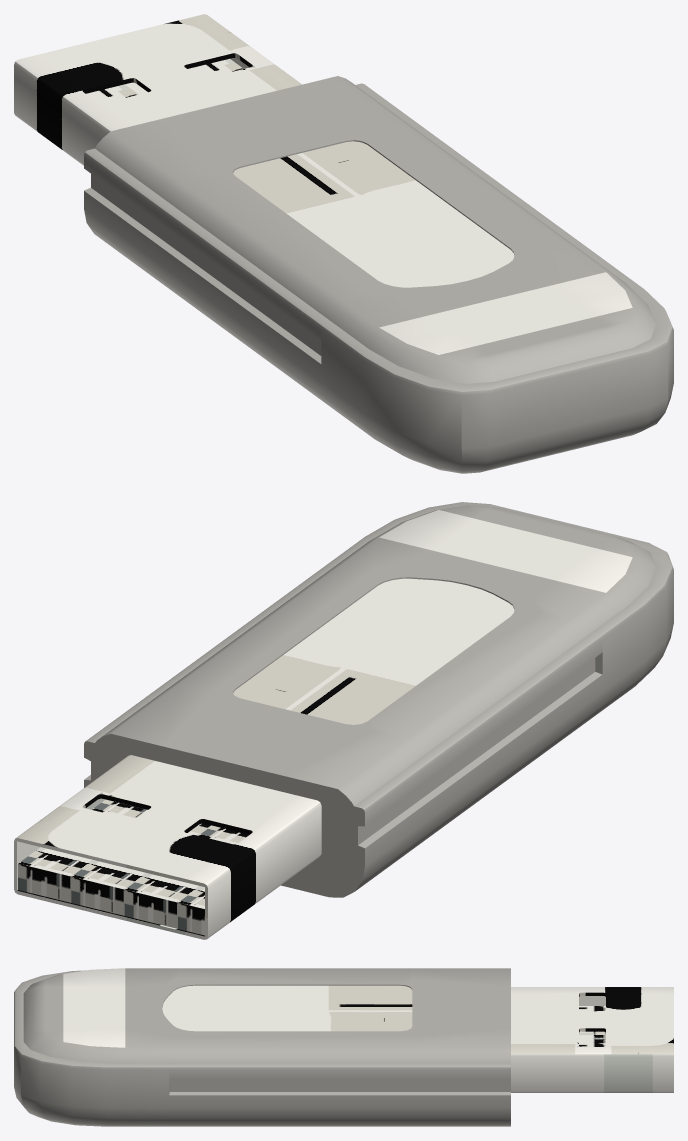
File: FlashDrive.fbx
The picture shows the model from 3 angles, top to bottom: view 1: azimuth 30°, elevation 25°; view 2: azimuth 150°, elevation 25°; view 3: azimuth 270°, elevation 25°; orthographic projection. The views are drawn at different scales.
Parts seen in each view (by area): view 1: Cube.002; view 2: Cube.002; view 3: Cube.002.
Part boxes in pixels (box(x1,y1,x2,y2)): Cube.002: box(14, 14, 673, 473); Cube.002: box(14, 502, 673, 939); Cube.002: box(14, 968, 673, 1126).
Size of the model in its own units: 186 by 69.71 by 526.
